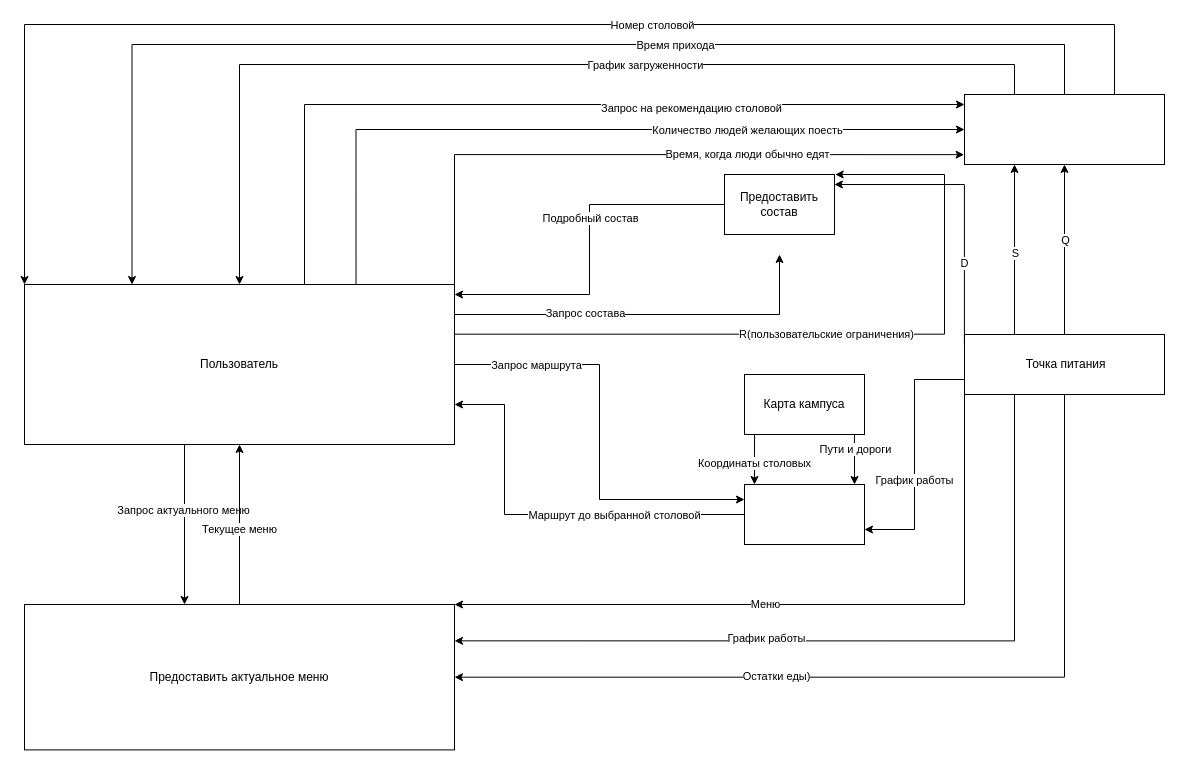
Image size: 1182x768. Some labels were removed from this diagram. Here are the shapes that lost their labels. From the top down, the centre of each, then its label:
(1064,129): Предложить столовую
(804,514): Определение местоположение точек питания
